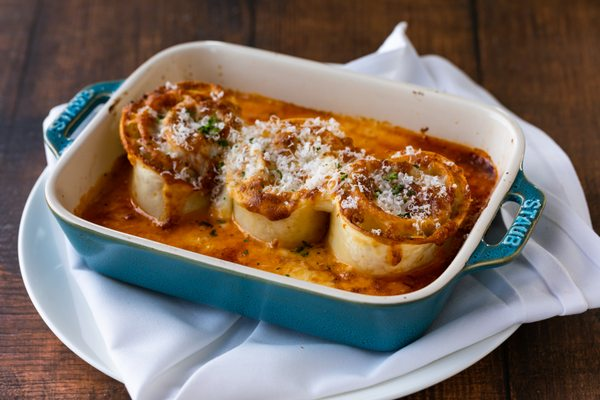sushi: (41, 47, 537, 351)
